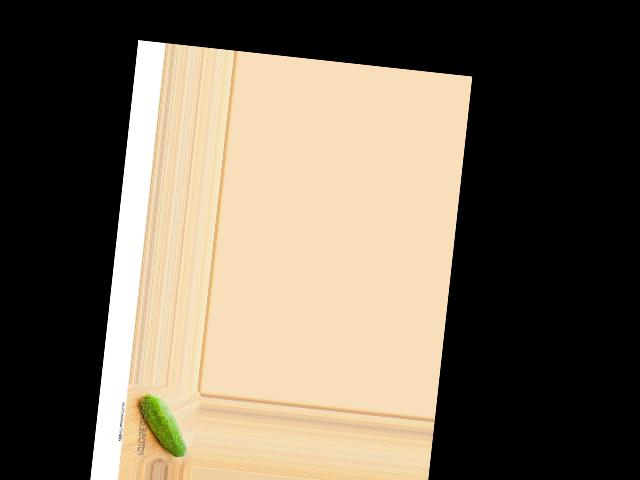cucumber: (134, 392, 192, 458)
